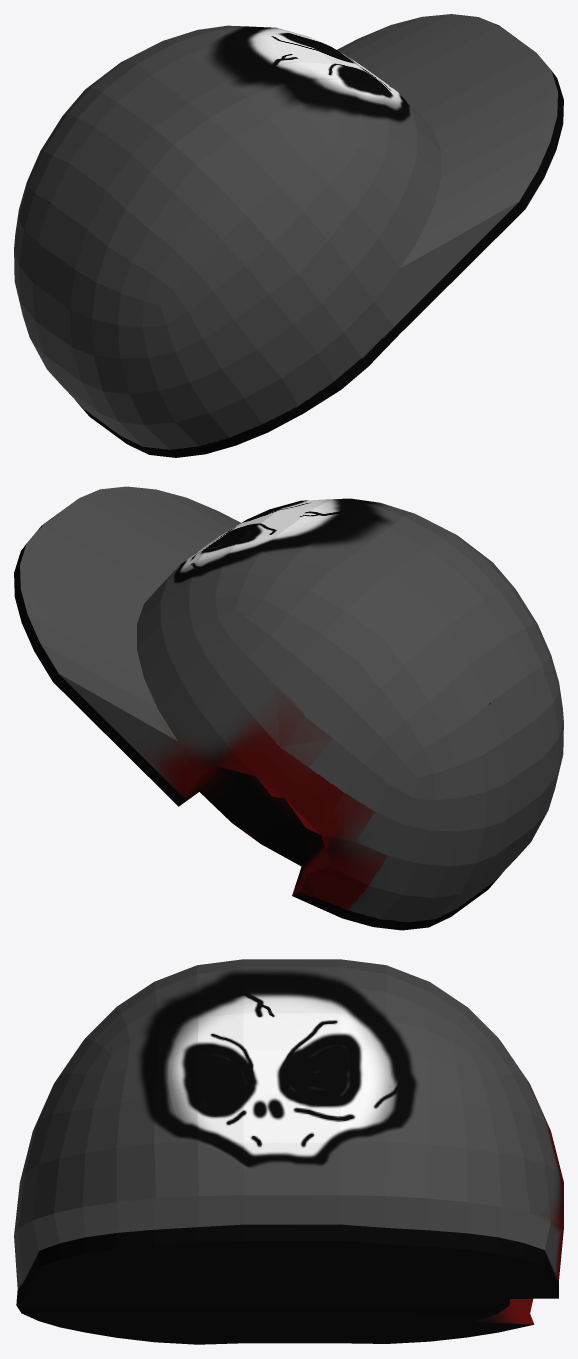
File: BallCap.fbx
3 views of the same model, one above another, from view 1: azimuth 30°, elevation 25°; view 2: azimuth 150°, elevation 25°; view 3: azimuth 270°, elevation 25° (orthographic). The views are drawn at different scales.
Parts seen in each view (by area): view 1: Hat; view 2: Hat; view 3: Hat.
Boxes of the visible parts, box(x1,y1,x2,y2) form: Hat: box(14, 14, 563, 457); Hat: box(14, 486, 563, 930); Hat: box(14, 959, 563, 1344).
Bounding box in the file's own units: 4264 × 2956 × 3321.
